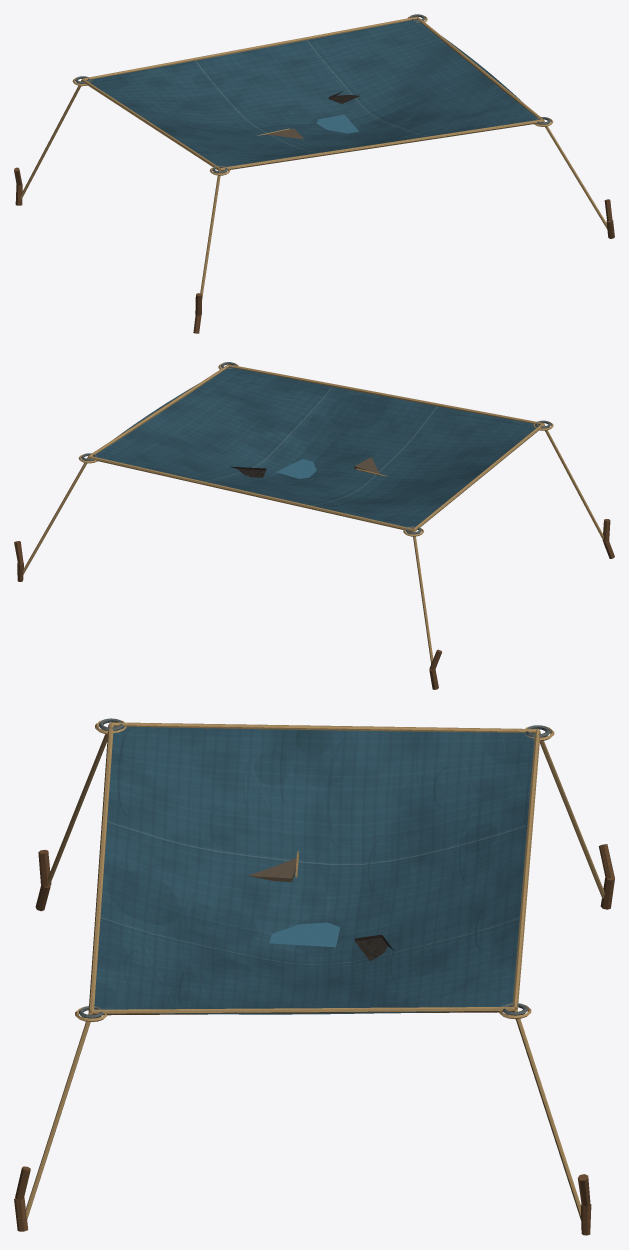
File: pr-001_tarp_presenning__wet.obj
3 views of the same model, one above another, from view 1: azimuth 30°, elevation 25°; view 2: azimuth 150°, elevation 25°; view 3: azimuth 270°, elevation 25° (orthographic). The views are drawn at different scales.
Visible parts, largest first — view 1: pr-001_tarp_presenning__wet; view 2: pr-001_tarp_presenning__wet; view 3: pr-001_tarp_presenning__wet.
Part boxes in pixels (<box>): pr-001_tarp_presenning__wet: <box>14,14,614,333</box>; pr-001_tarp_presenning__wet: <box>14,362,614,689</box>; pr-001_tarp_presenning__wet: <box>14,718,614,1235</box>.
Bounding box in the file's own units: 2.8 × 0.8647 × 2.11.
7 materials, 7 textured.
